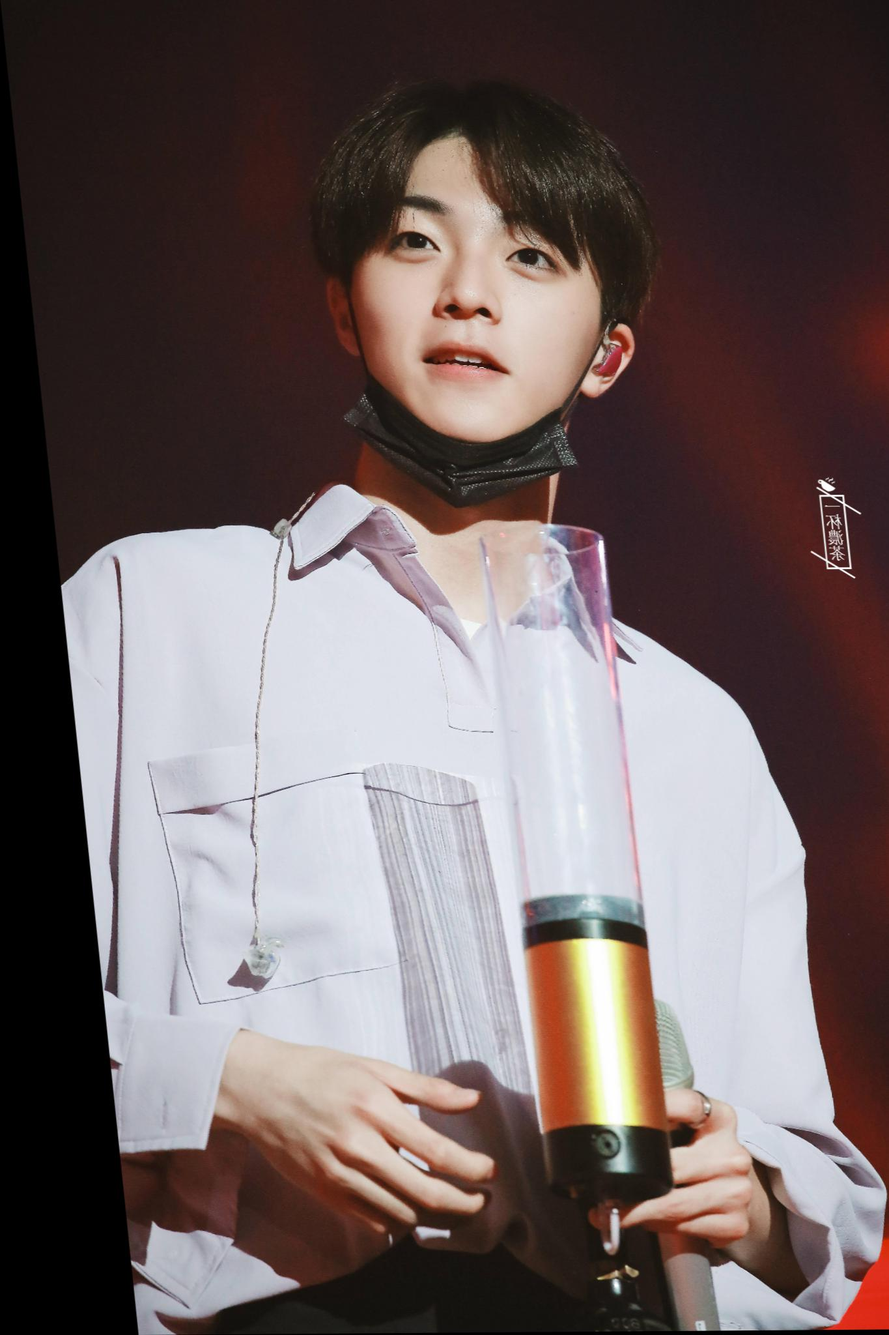WRONG: (328, 158, 604, 465)
